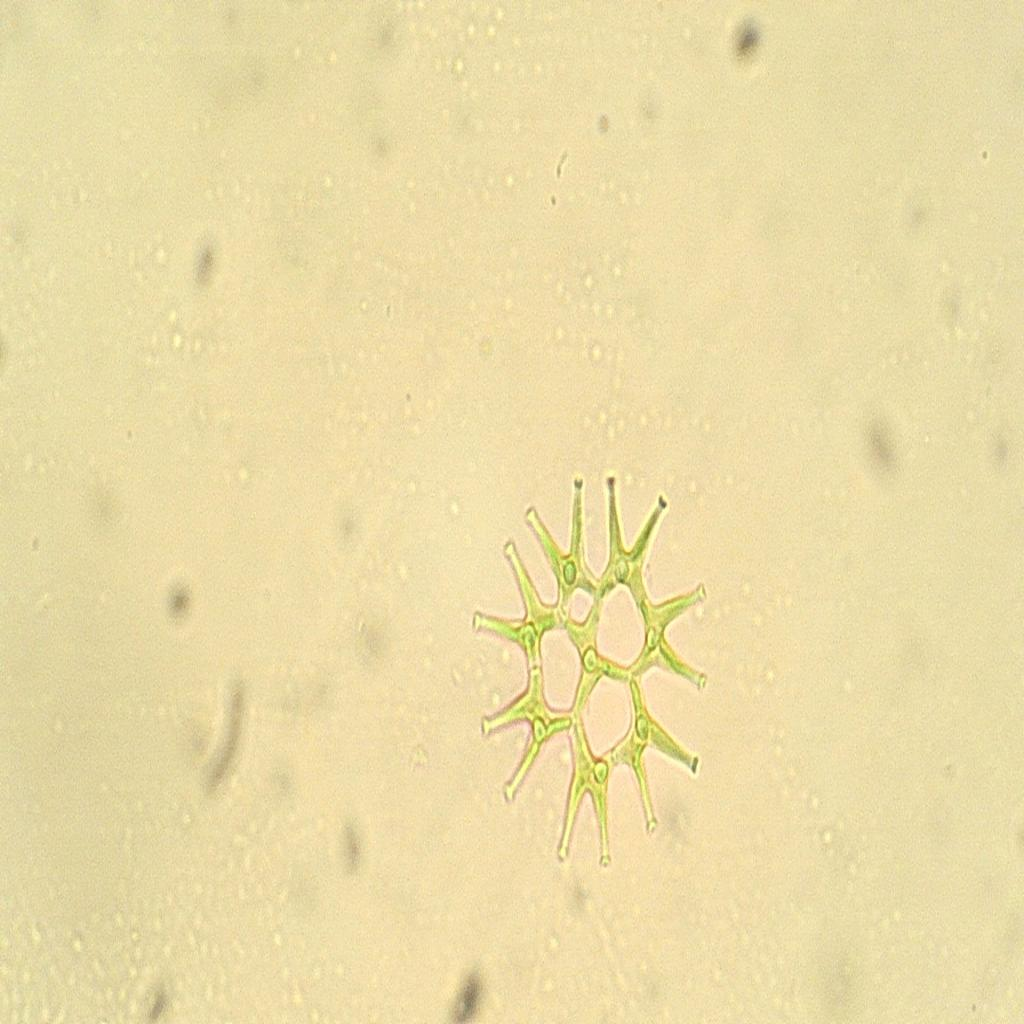Pediastrum_75T: (457, 453, 721, 887)
